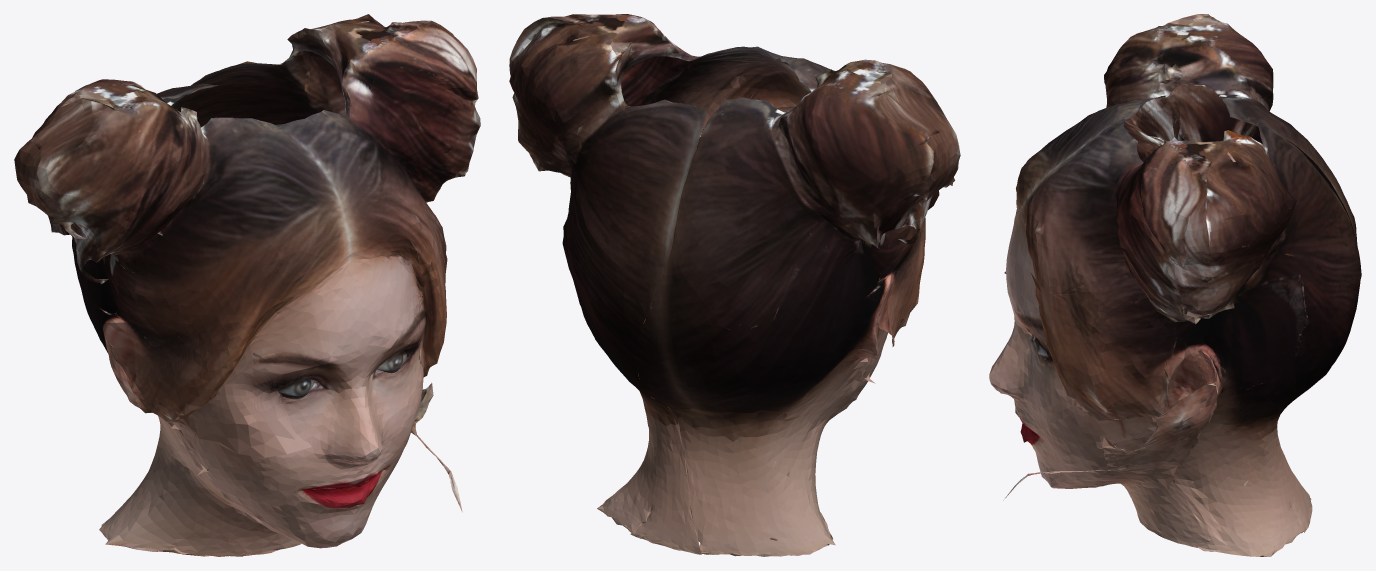
3 views of the same model, side by side, from view 1: azimuth 30°, elevation 25°; view 2: azimuth 150°, elevation 25°; view 3: azimuth 270°, elevation 25° (orthographic). The views are drawn at different scales.
Bounding box in the file's own units: 1.78 × 1.8 × 1.42.
1 material, 1 textured.
